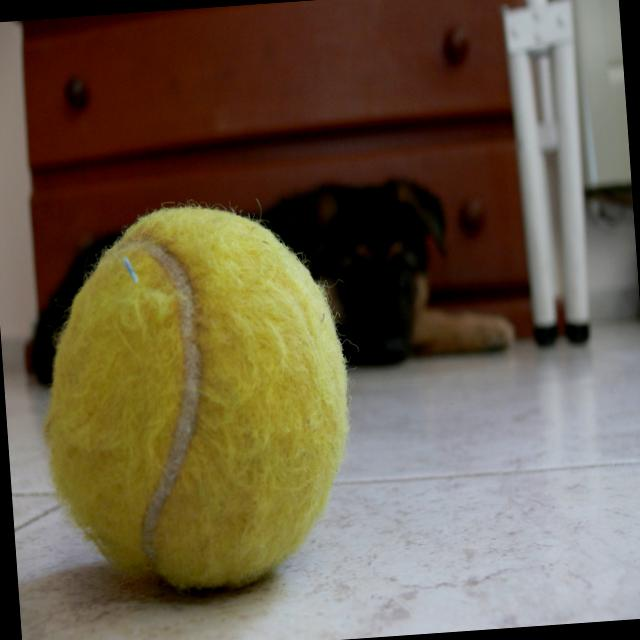Tennis Ball: (26, 182, 372, 597)
